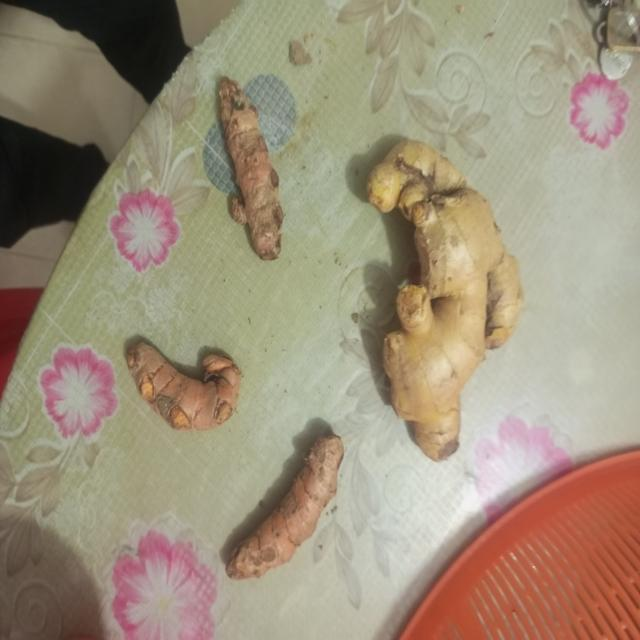ginger: (373, 152, 512, 448), (232, 438, 345, 574), (216, 79, 284, 258), (126, 334, 239, 428)
